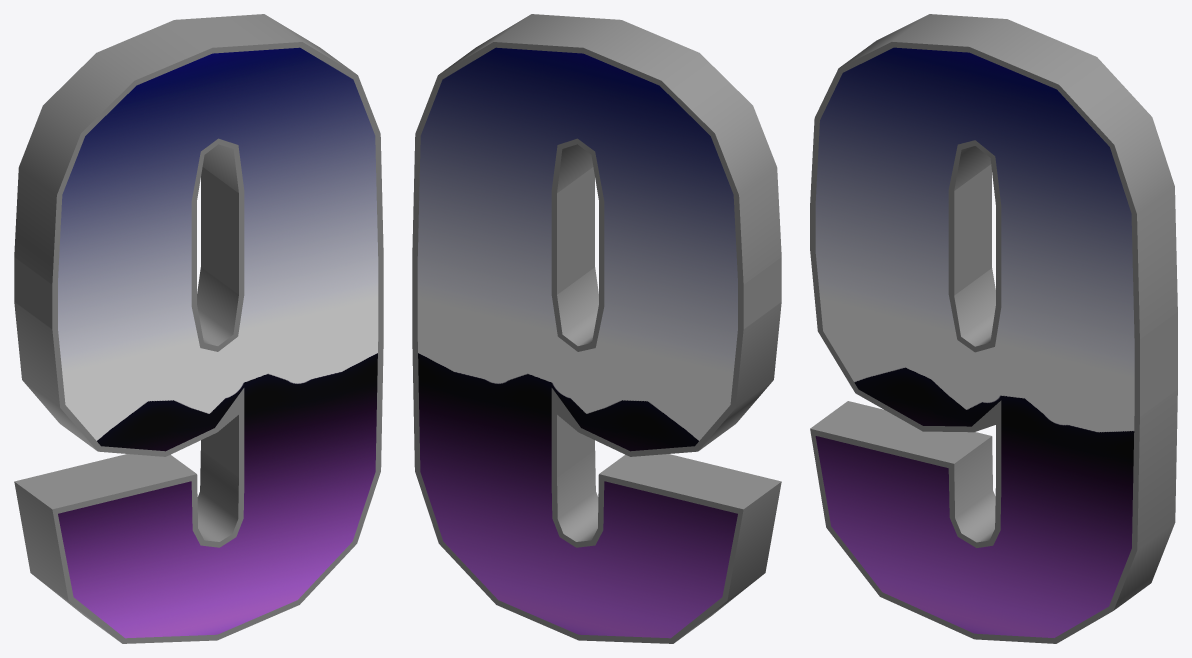
3 renders of one model, left to right at view 1: azimuth 30°, elevation 25°; view 2: azimuth 150°, elevation 25°; view 3: azimuth 330°, elevation 25°, orthographic.
Parts seen in each view (by area): view 1: 9, 9_outline; view 2: 9, 9_outline; view 3: 9, 9_outline.
Part boxes in pixels (x1,y1,x2,y2): 9: [58, 47, 378, 638]; 9_outline: [14, 14, 383, 643]; 9: [417, 47, 737, 638]; 9_outline: [412, 14, 781, 643]; 9: [815, 47, 1134, 637]; 9_outline: [810, 14, 1177, 643].
Bounding box in the file's own units: 60.2 × 103 × 12.
2 materials, 1 textured.
